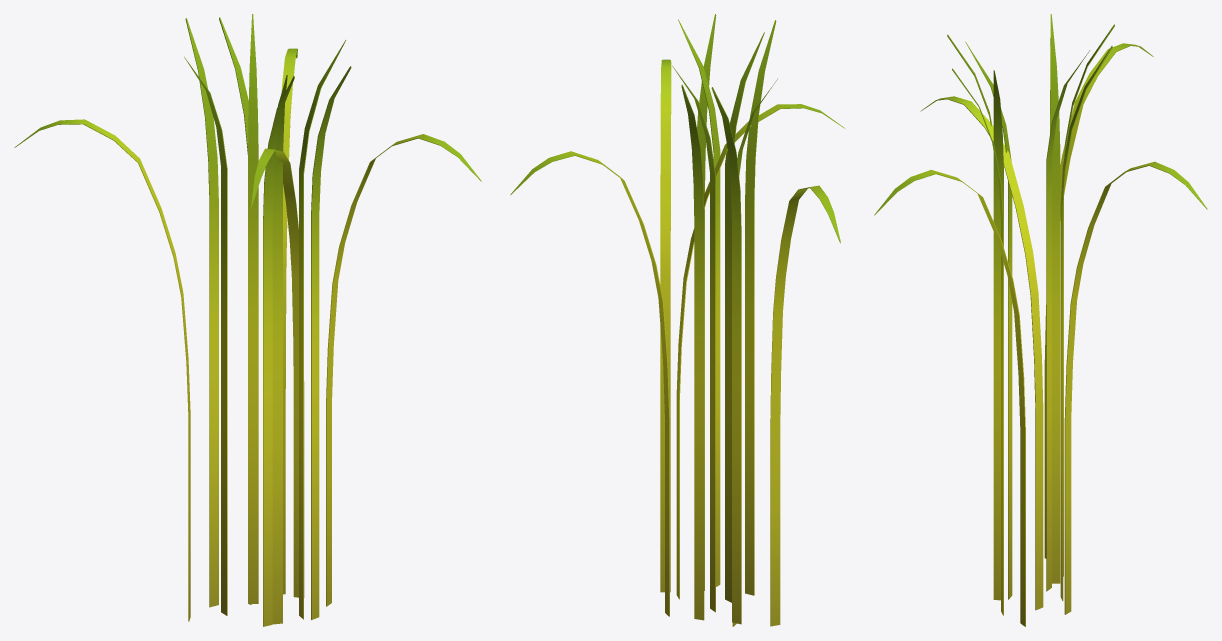
File: Seagrass_BIG_cluster.fbx
The picture shows the model from 3 angles, left to right: view 1: azimuth 30°, elevation 25°; view 2: azimuth 150°, elevation 25°; view 3: azimuth 270°, elevation 25°; orthographic projection. The views are drawn at different scales.
Parts seen in each view (by area): view 1: Seagrass1; view 2: Seagrass1; view 3: Seagrass1.
Boxes of the visible parts, <box> form: Seagrass1: <box>14,14,481,626</box>; Seagrass1: <box>510,14,844,626</box>; Seagrass1: <box>874,14,1207,626</box>.
Size of the model in its own units: 68.18 by 116 by 63.07.
Materials: 1 (1 with a texture image).
